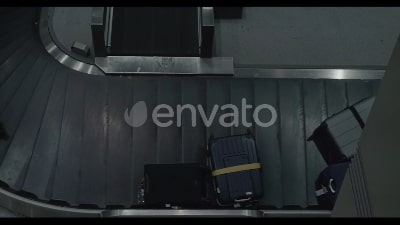baggage: (204, 127, 267, 207), (135, 158, 214, 213)
